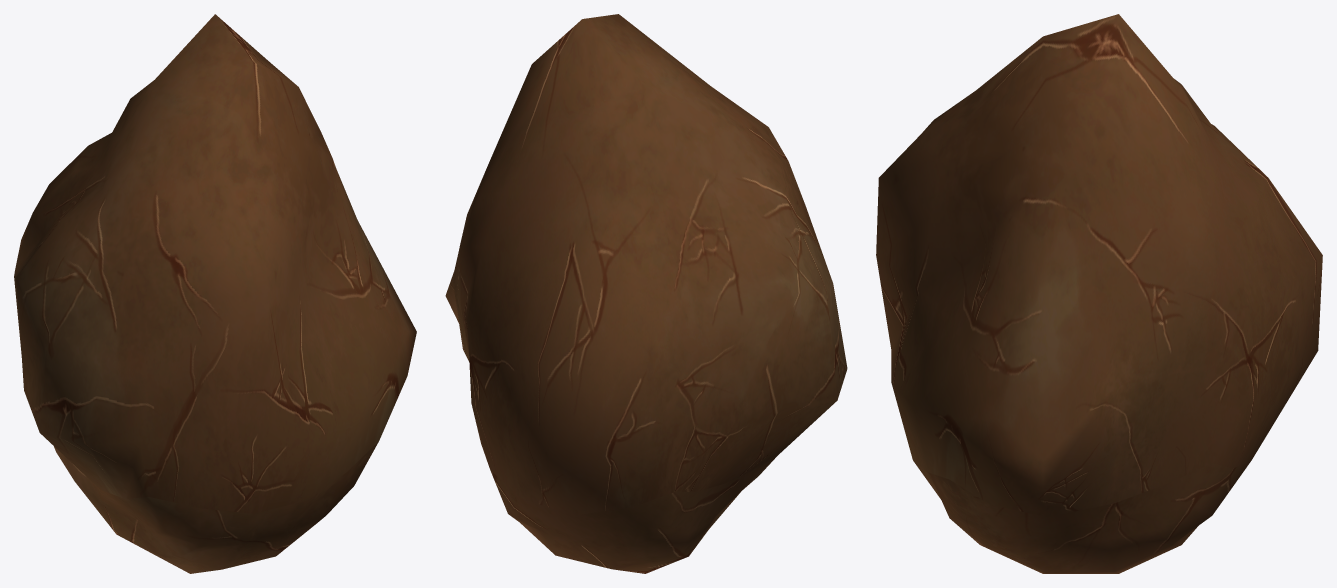
The model's file is CA_OPE_Props_Caverna_Pedra_Media_005.fbx.
3 views of the same model, side by side, from view 1: azimuth 30°, elevation 25°; view 2: azimuth 150°, elevation 25°; view 3: azimuth 270°, elevation 25° (orthographic). The views are drawn at different scales.
Parts seen in each view (by area): view 1: CA_OPE_Props_Caverna_Pedra_Media_005; view 2: CA_OPE_Props_Caverna_Pedra_Media_005; view 3: CA_OPE_Props_Caverna_Pedra_Media_005.
Part boxes in pixels (box(x1,y1,x2,y2)): CA_OPE_Props_Caverna_Pedra_Media_005: box(14, 14, 416, 573); CA_OPE_Props_Caverna_Pedra_Media_005: box(445, 14, 847, 573); CA_OPE_Props_Caverna_Pedra_Media_005: box(876, 14, 1322, 573).
Size of the model in its own units: 18.75 by 24.66 by 17.83.
